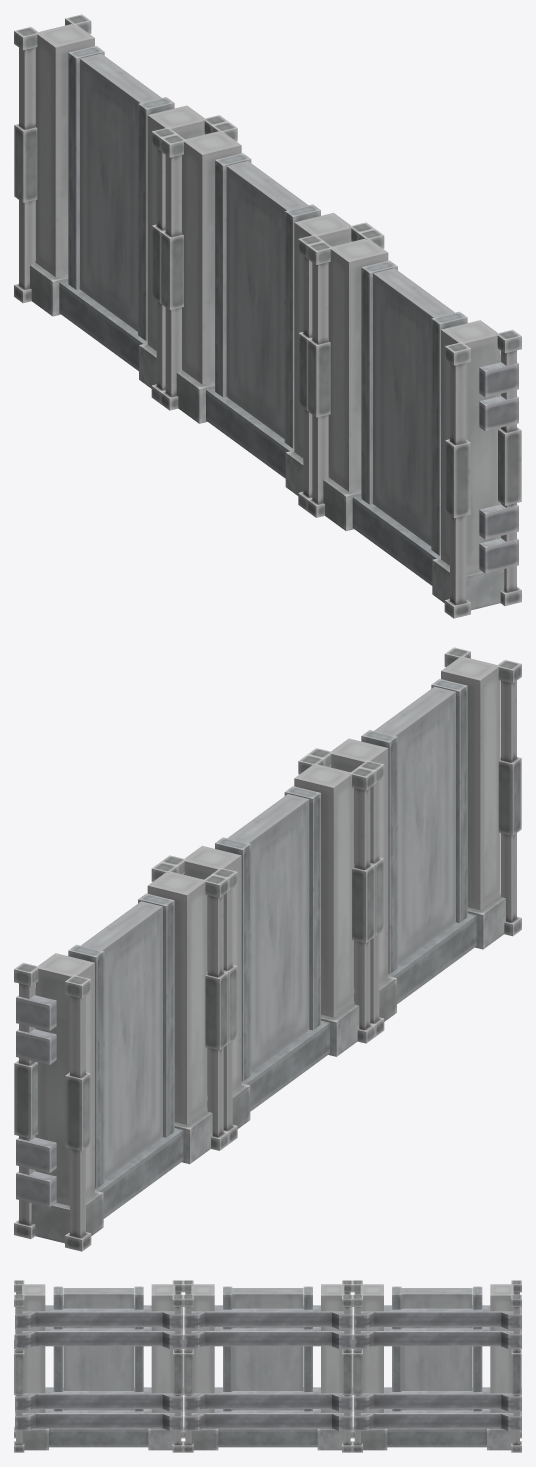
The model's file is Pfb_JALB_WallPart2_Line__4.fbx.
The picture shows the model from 3 angles, top to bottom: view 1: azimuth 30°, elevation 25°; view 2: azimuth 150°, elevation 25°; view 3: azimuth 270°, elevation 25°; orthographic projection. The views are drawn at different scales.
Parts seen in each view (by area): view 1: MAT_Soda_Ironfame; view 2: MAT_Soda_Ironfame; view 3: MAT_Soda_Ironfame.
Boxes of the visible parts, x1=… form: MAT_Soda_Ironfame: x1=14, y1=14, x2=521, y2=618; MAT_Soda_Ironfame: x1=14, y1=647, x2=521, y2=1251; MAT_Soda_Ironfame: x1=14, y1=1280, x2=521, y2=1452.
Bounding box in the file's own units: 1.07 × 4 × 12.
1 material, 1 textured.
